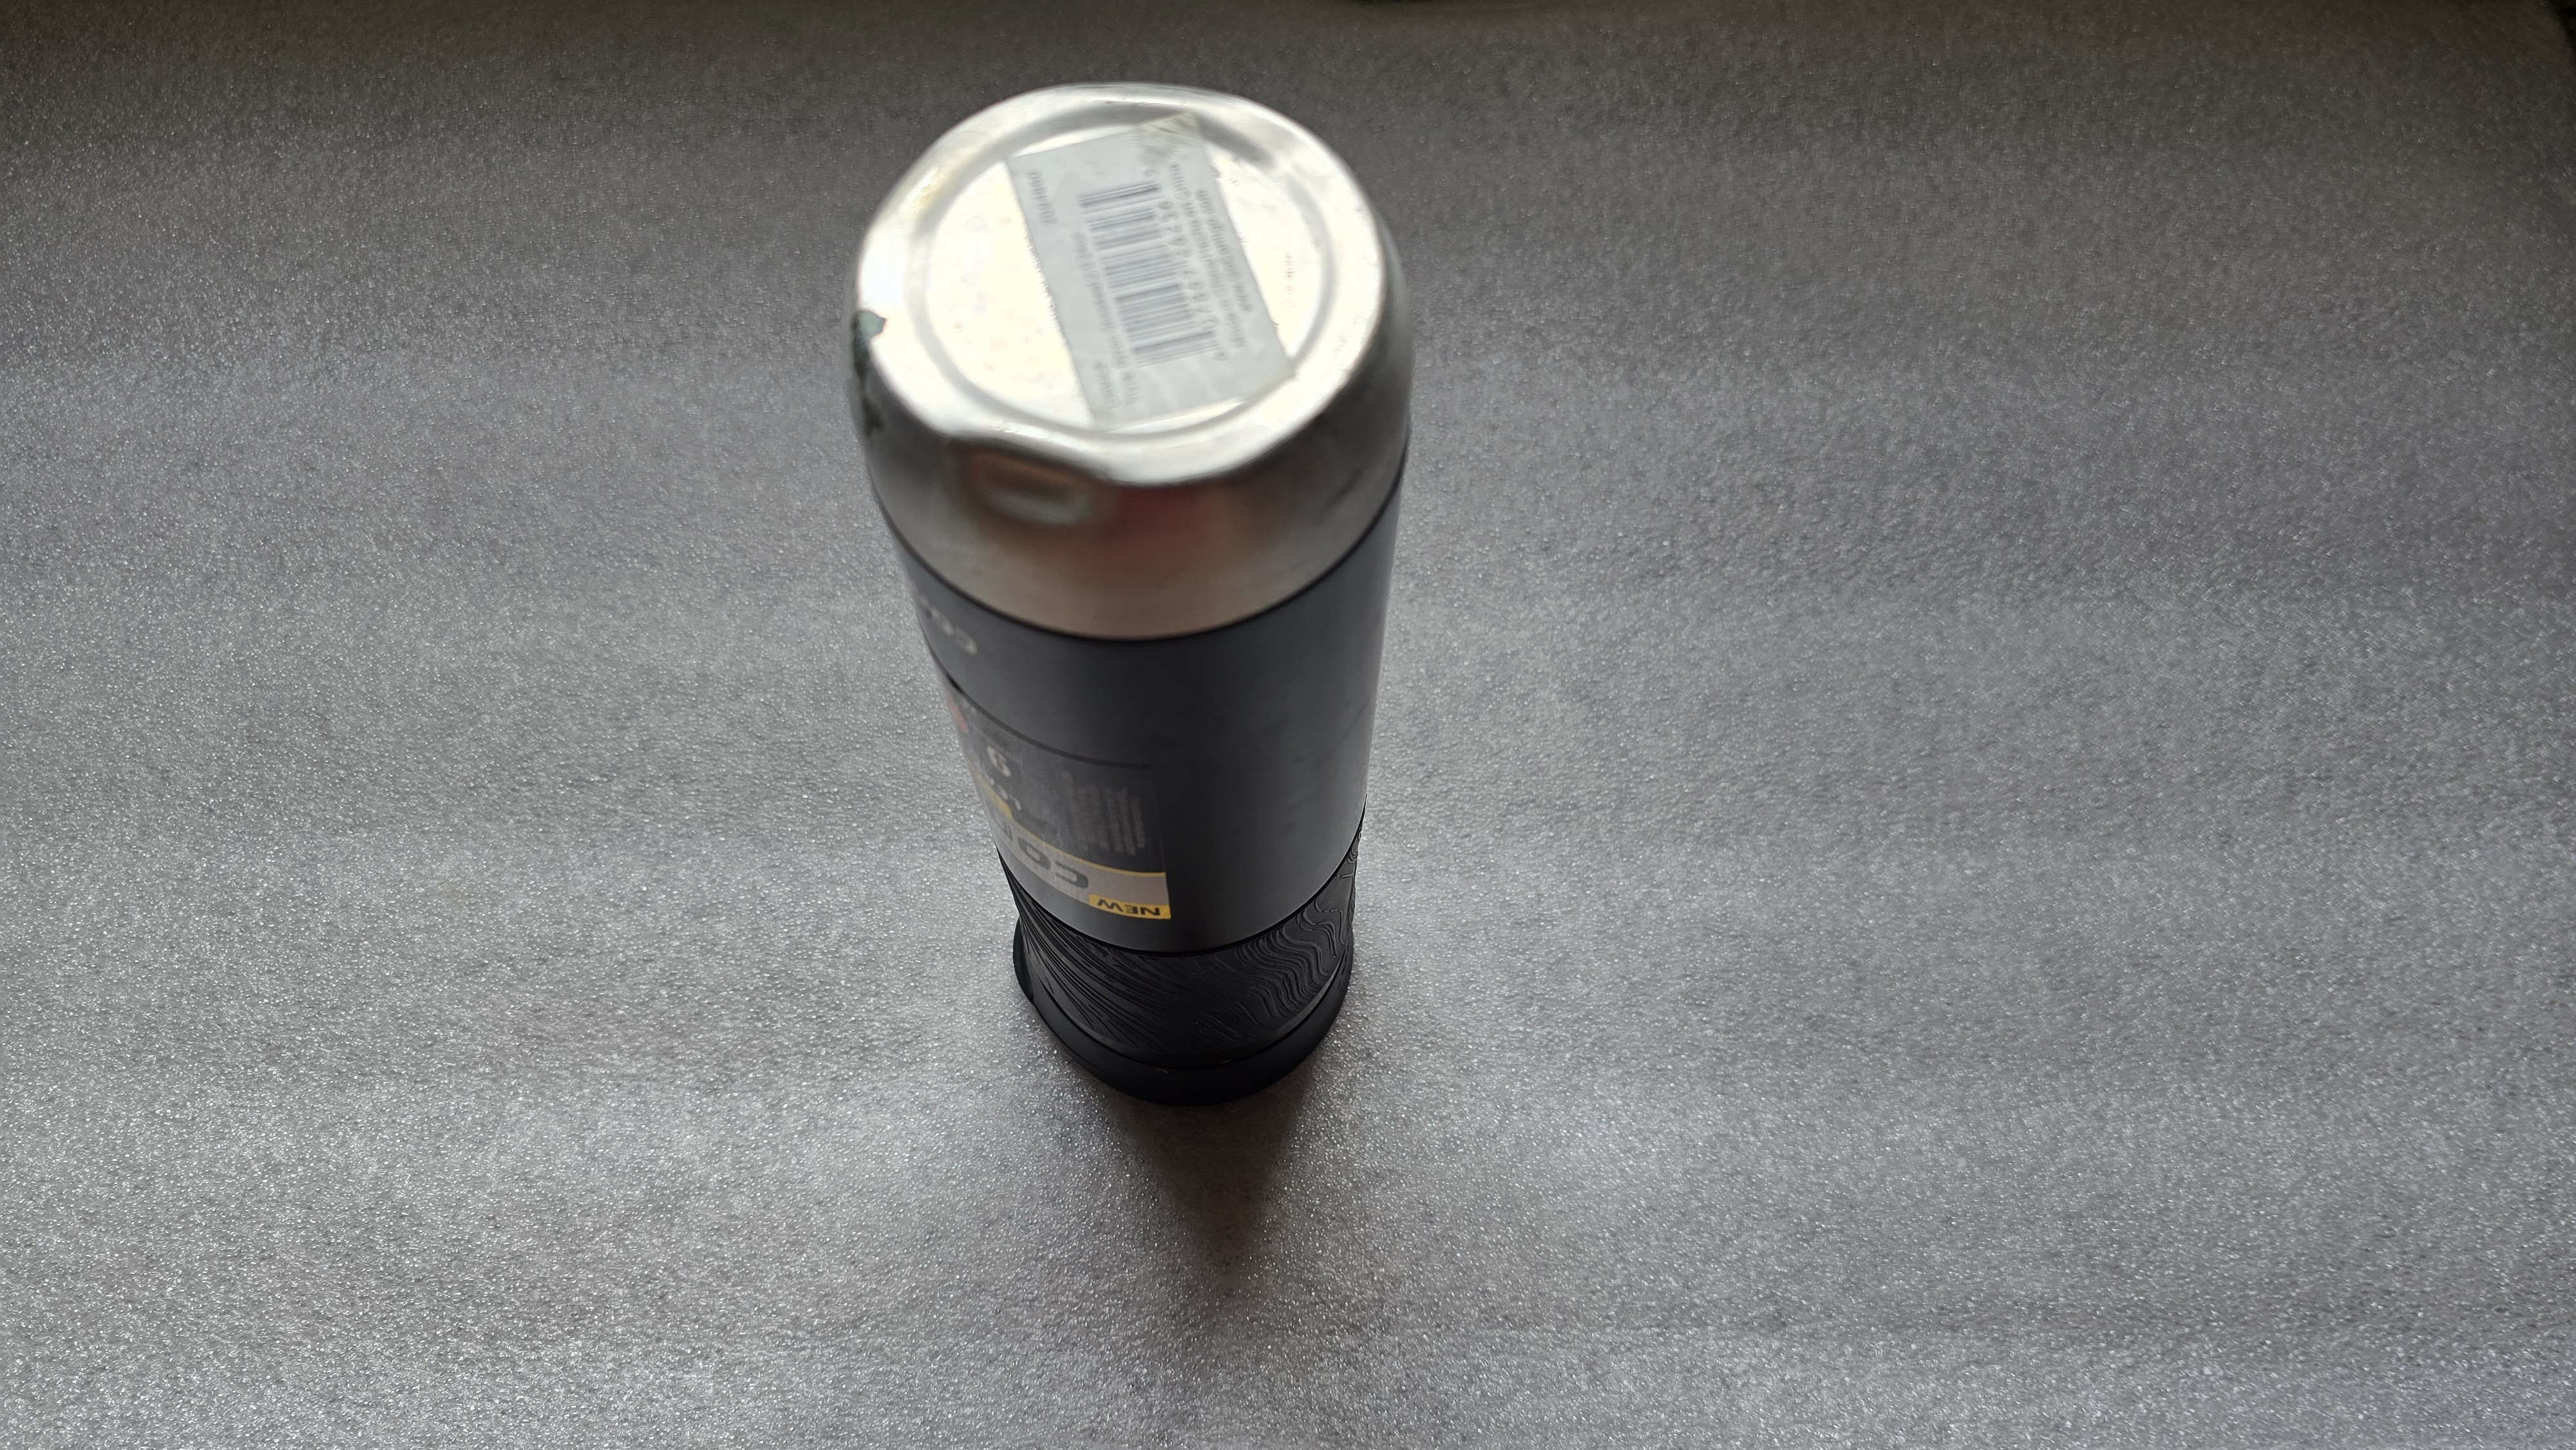bottle: (800, 58, 1486, 1149)
